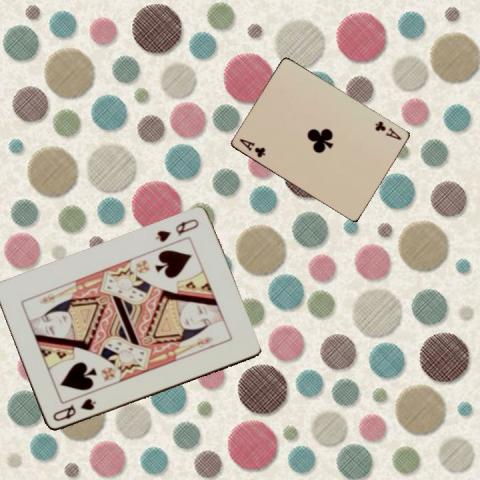Ac: (237, 135, 267, 159), (372, 118, 403, 141)
Qs: (153, 216, 200, 244), (50, 396, 98, 423)
